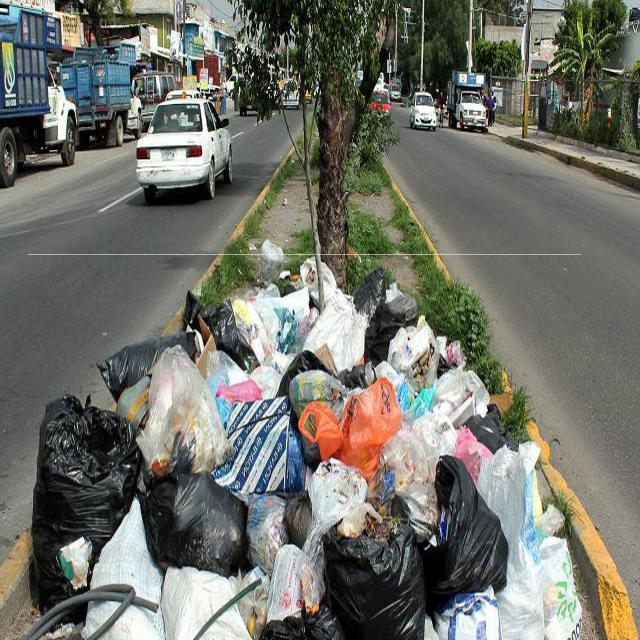Trashbag: (35, 394, 134, 589), (141, 459, 245, 580), (424, 468, 495, 600), (331, 519, 417, 624), (94, 331, 160, 381), (471, 416, 514, 454), (203, 301, 232, 347), (372, 313, 399, 362), (311, 598, 339, 637), (272, 605, 303, 640), (354, 278, 384, 314)
